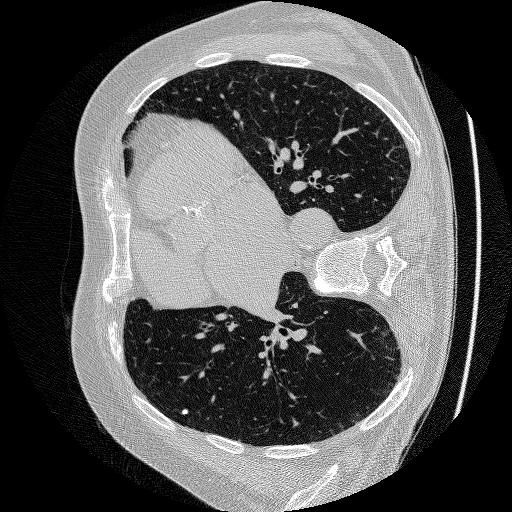nodule: (180, 407, 191, 418)
